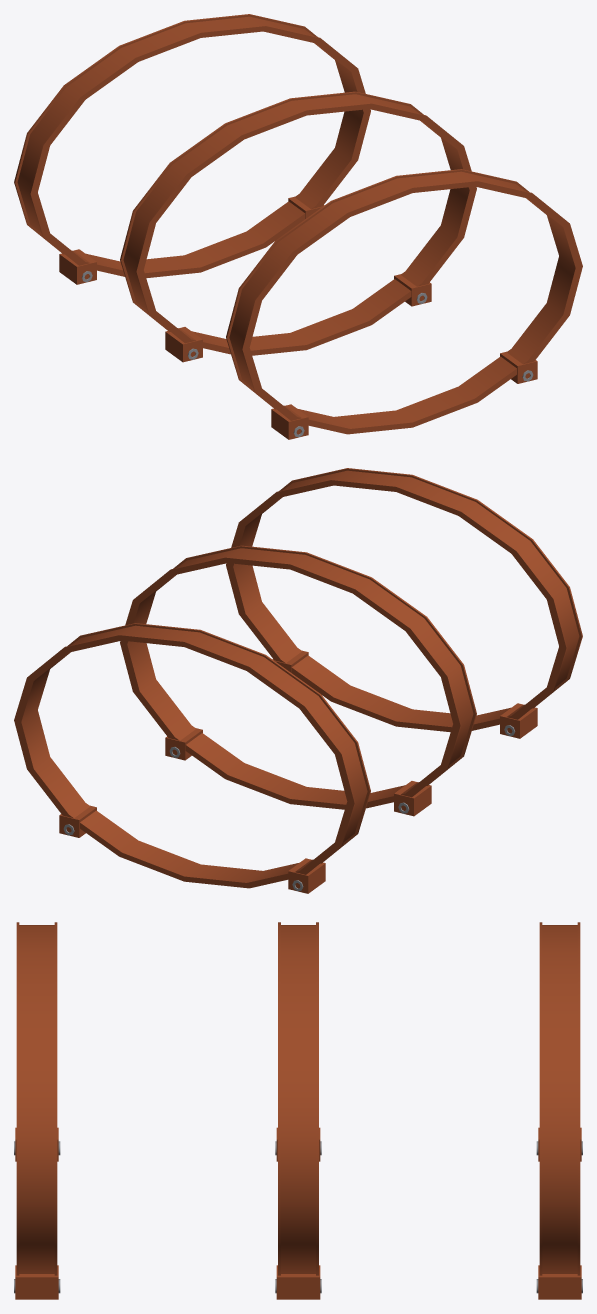
The model's file is pod100_cradles.obj.
3 renders of one model, top to bottom at view 1: azimuth 30°, elevation 25°; view 2: azimuth 150°, elevation 25°; view 3: azimuth 270°, elevation 25°, orthographic. The views are drawn at different scales.
Parts seen in each view (by area): view 1: pod100_cradles; view 2: pod100_cradles; view 3: pod100_cradles.
Boxes of the visible parts, left/top/right/bottom form: pod100_cradles: left=14, top=14, right=582, bottom=439; pod100_cradles: left=14, top=468, right=582, bottom=893; pod100_cradles: left=14, top=922, right=582, bottom=1299.
Size of the model in its own units: 7.15 by 4.81 by 8.38.
